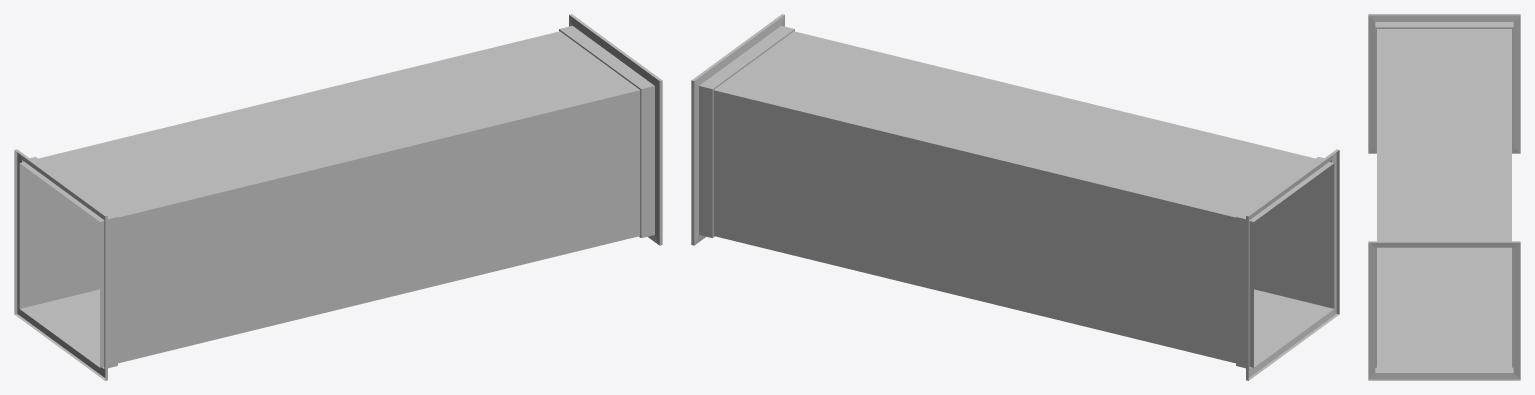
File: SM_Airing_200.FBX
The picture shows the model from 3 angles, left to right: view 1: azimuth 30°, elevation 25°; view 2: azimuth 150°, elevation 25°; view 3: azimuth 270°, elevation 25°; orthographic projection. The views are drawn at different scales.
Parts seen in each view (by area): view 1: SM_Airing_200; view 2: SM_Airing_200; view 3: SM_Airing_200.
Part boxes in pixels (x1,y1,x2,y2): SM_Airing_200: (14,14,662,380); SM_Airing_200: (691,14,1339,380); SM_Airing_200: (1368,14,1520,380).
Bounding box in the file's own units: 200 × 56.42 × 56.42.
Materials: 1 (1 with a texture image).
